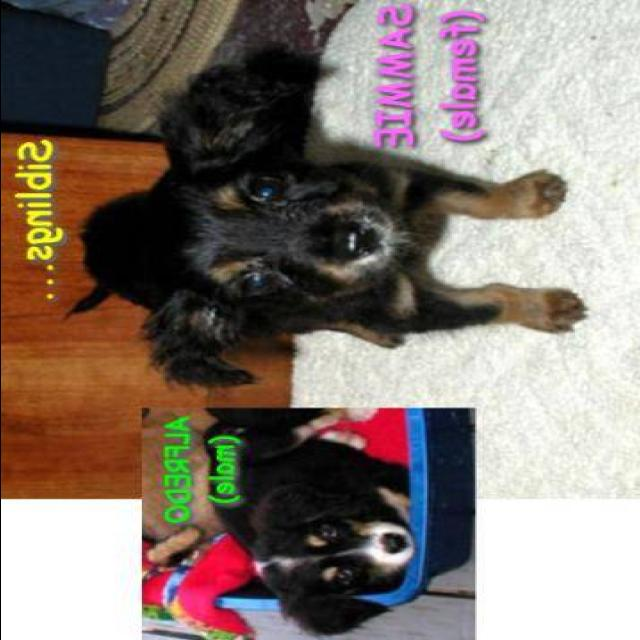dog: (78, 59, 590, 400)
